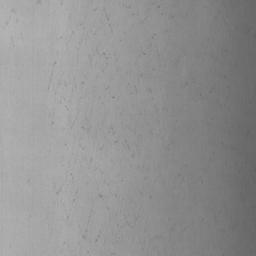Silk spot: (69, 118, 130, 150), (60, 72, 88, 110), (79, 215, 105, 253), (60, 23, 96, 49), (112, 210, 140, 239), (88, 47, 118, 64)
